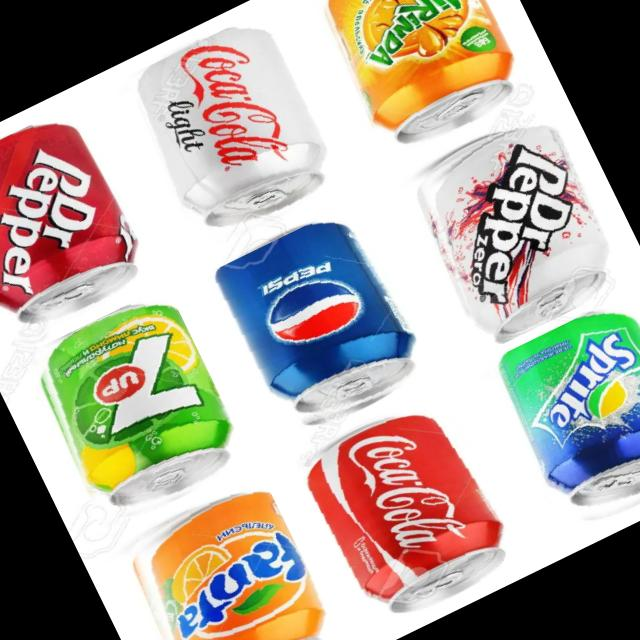Cans: (291, 376, 545, 639), (206, 192, 454, 446), (116, 7, 356, 264), (17, 284, 255, 541), (396, 102, 632, 352), (0, 98, 170, 354), (104, 469, 348, 640), (482, 287, 640, 546), (303, 0, 534, 170)
